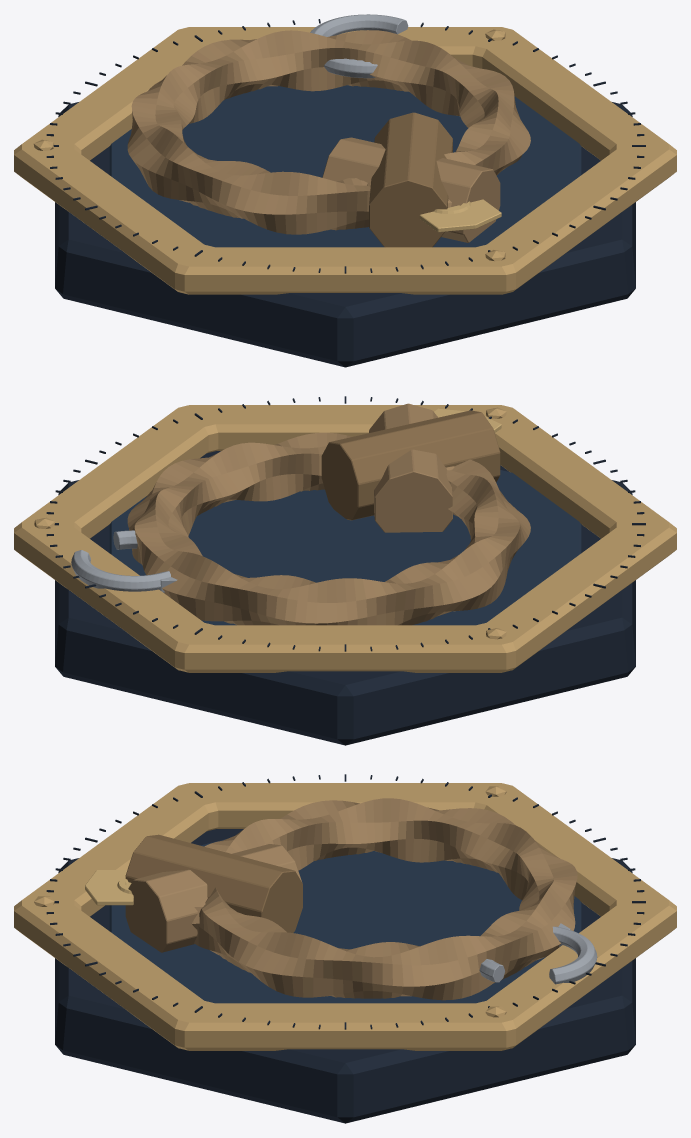
The model's file is knot_tied.glb.
3 views of the same model, one above another, from view 1: azimuth 30°, elevation 25°; view 2: azimuth 150°, elevation 25°; view 3: azimuth 270°, elevation 25° (orthographic).
Parts seen in each view (by area): view 1: BG_FrameRing, KT_RopeRing, BG_BasePlate, BG_Field, KT_KnotStrandB, KT_KnotStrandA, KT_Carabiner, KT_Tag, BG_TickScale, BG_Rivets; view 2: BG_FrameRing, KT_RopeRing, BG_BasePlate, BG_Field, KT_KnotStrandB, KT_KnotStrandA, KT_Carabiner, BG_TickScale, BG_Rivets; view 3: BG_FrameRing, KT_RopeRing, BG_BasePlate, BG_Field, KT_KnotStrandB, KT_KnotStrandA, KT_Carabiner, BG_TickScale, KT_Tag, BG_Rivets.
Boxes of the visible parts, x1,y1,x2,y2 form: BG_FrameRing: (14, 27, 676, 294); KT_RopeRing: (127, 30, 530, 234); BG_BasePlate: (55, 102, 635, 367); BG_Field: (109, 85, 581, 247); KT_KnotStrandB: (369, 112, 452, 247); KT_KnotStrandA: (322, 137, 500, 242); KT_Carabiner: (310, 14, 408, 78); KT_Tag: (419, 199, 501, 232); BG_TickScale: (46, 19, 645, 273); BG_Rivets: (33, 29, 505, 261); BG_FrameRing: (14, 405, 676, 672); KT_RopeRing: (127, 432, 530, 625); BG_BasePlate: (55, 451, 635, 745); BG_Field: (109, 470, 581, 625); KT_KnotStrandB: (321, 410, 500, 520); KT_KnotStrandA: (369, 403, 452, 532); KT_Carabiner: (71, 530, 170, 591); BG_TickScale: (46, 396, 645, 651); BG_Rivets: (34, 407, 506, 639); BG_FrameRing: (14, 783, 676, 1050); KT_RopeRing: (194, 798, 577, 1000); BG_BasePlate: (55, 829, 635, 1123); BG_Field: (109, 839, 581, 1003); KT_KnotStrandB: (125, 834, 302, 932); KT_KnotStrandA: (125, 844, 302, 952); KT_Carabiner: (479, 926, 597, 984); BG_TickScale: (46, 774, 645, 1029); KT_Tag: (85, 870, 133, 905); BG_Rivets: (34, 786, 506, 1017).
Bounding box in the file's own units: 0.0393 × 0.00863 × 0.0394.
